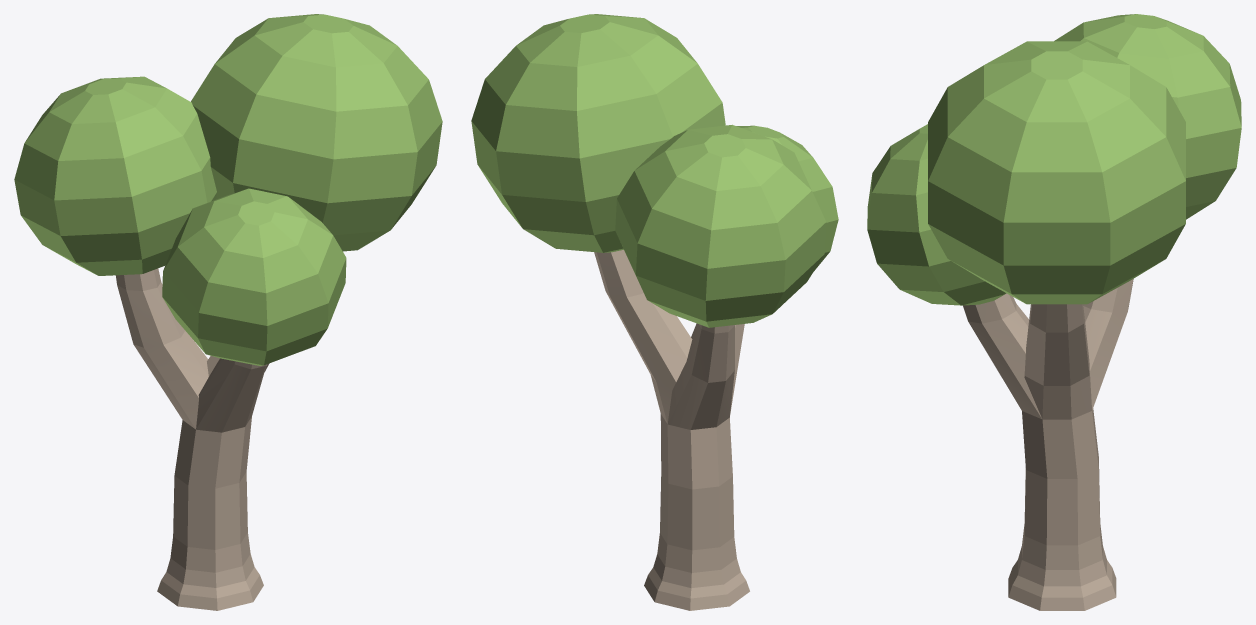
The model's file is Hilly_Prop_Tree_Oak_4.glb.
3 views of the same model, side by side, from view 1: azimuth 30°, elevation 25°; view 2: azimuth 150°, elevation 25°; view 3: azimuth 270°, elevation 25° (orthographic). The views are drawn at different scales.
Visible parts, largest first — view 1: Hilly_Prop_Tree_Oak_4; view 2: Hilly_Prop_Tree_Oak_4; view 3: Hilly_Prop_Tree_Oak_4.
Boxes of the visible parts, box(x1,y1,x2,y2) form: Hilly_Prop_Tree_Oak_4: box(14, 14, 442, 610); Hilly_Prop_Tree_Oak_4: box(471, 14, 838, 610); Hilly_Prop_Tree_Oak_4: box(867, 14, 1241, 610).
Size of the model in its own units: 3.36 by 5 by 2.89.
